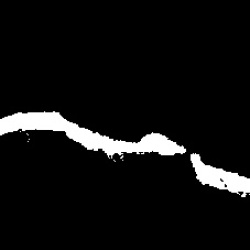crack: (1, 112, 247, 194)
